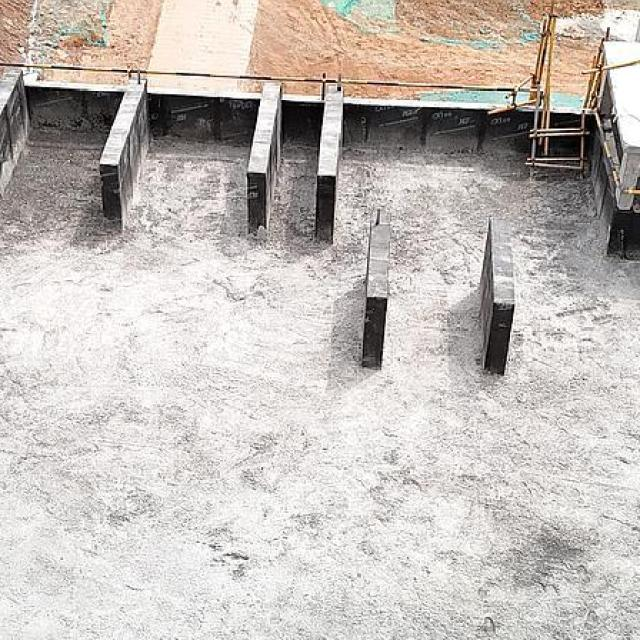edge_guardrail: (1, 63, 538, 116), (594, 110, 640, 196), (581, 57, 640, 76)
